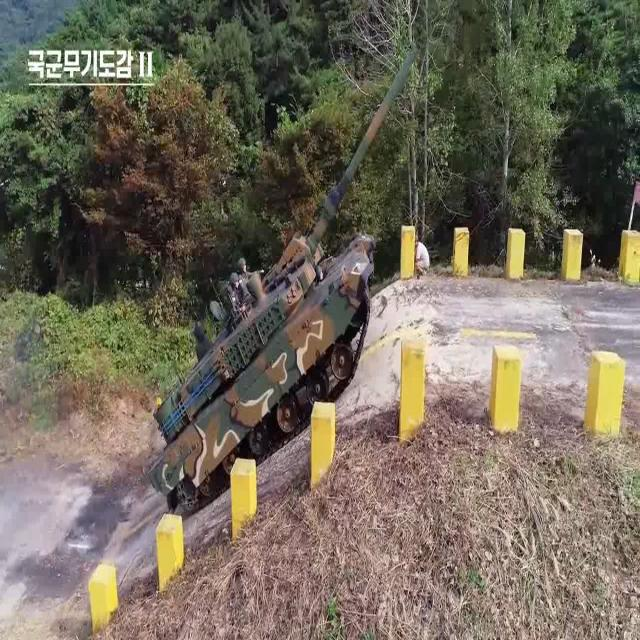korea tank: (144, 41, 426, 524)
